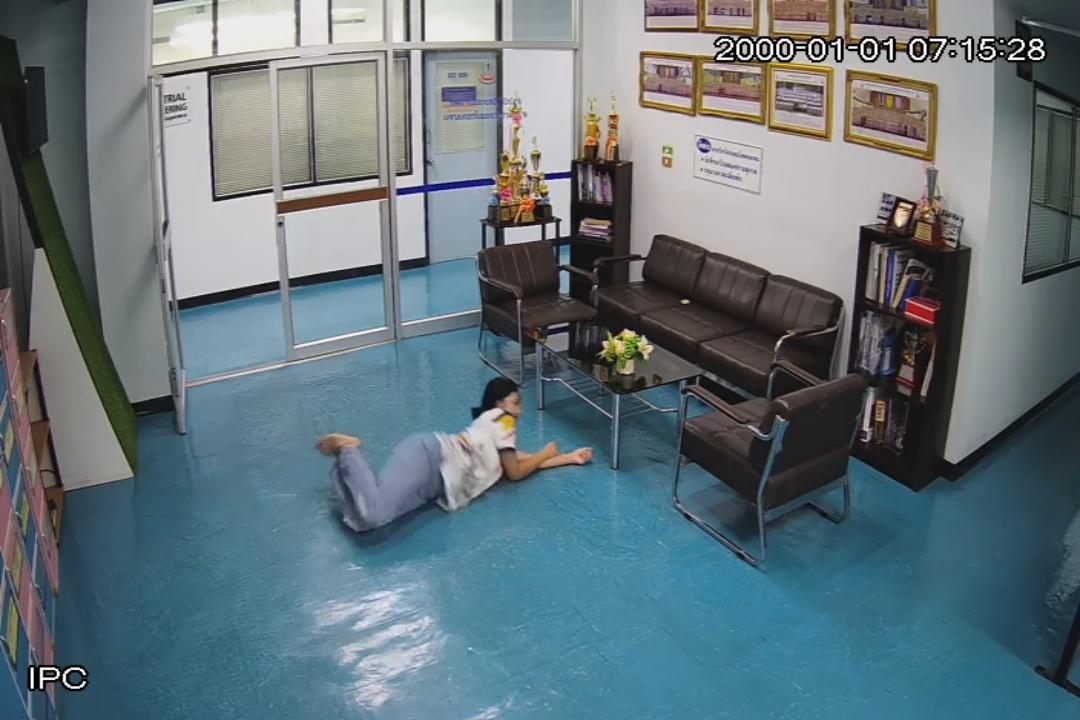fall: (310, 368, 592, 540)
